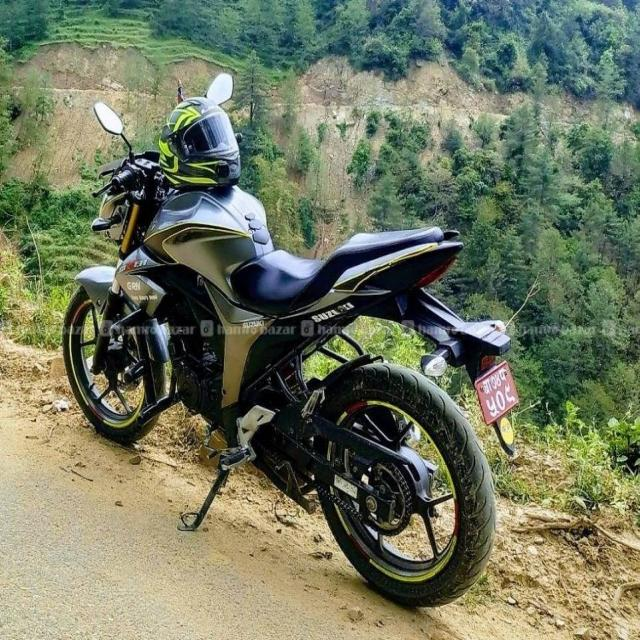License-plate: (475, 358, 518, 422)
